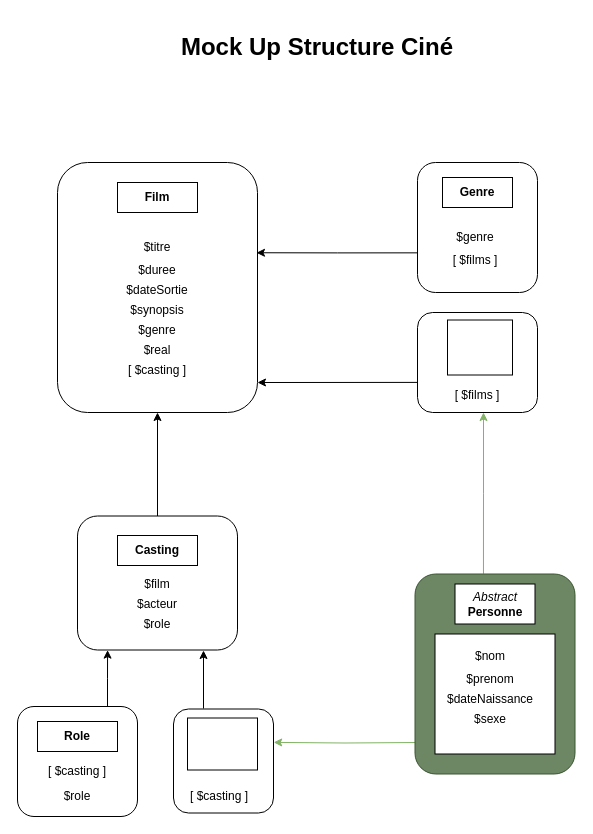
Some shapes in this 593 by 834 pixel diagram are drawn without their labels. The centre of each missing label's shape, as x and y in pixels:
"Acteur extends Personne" goes at pixel 222 743.
"Real extends Personne" goes at pixel 479 347.
